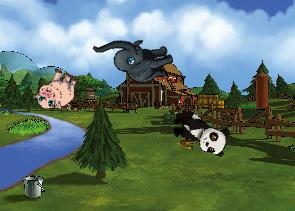elephant: (92, 19, 178, 97)
panda: (166, 106, 233, 159)
pig: (31, 63, 83, 117)
